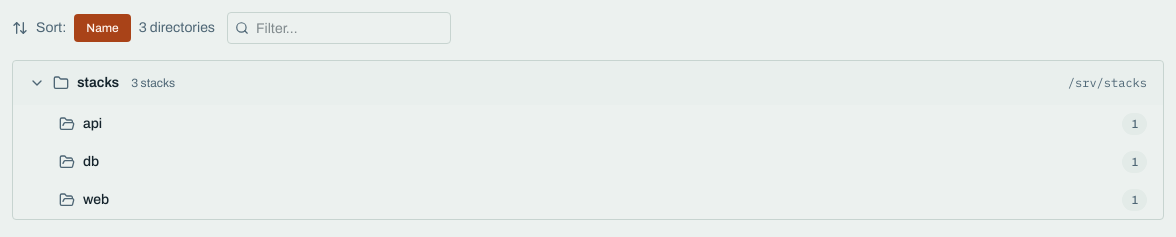
Test: DirectoriesTab — filtering › reports when nothing matches
Type "zzz" into the field with placeholder "Filter…" at (339, 28), box [227,12,451,44]
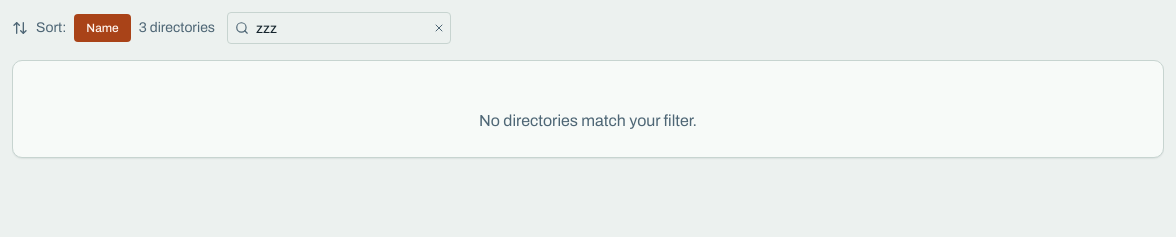
Expected: the text "No directories match your filter." is shown, [479,112,697,129]
